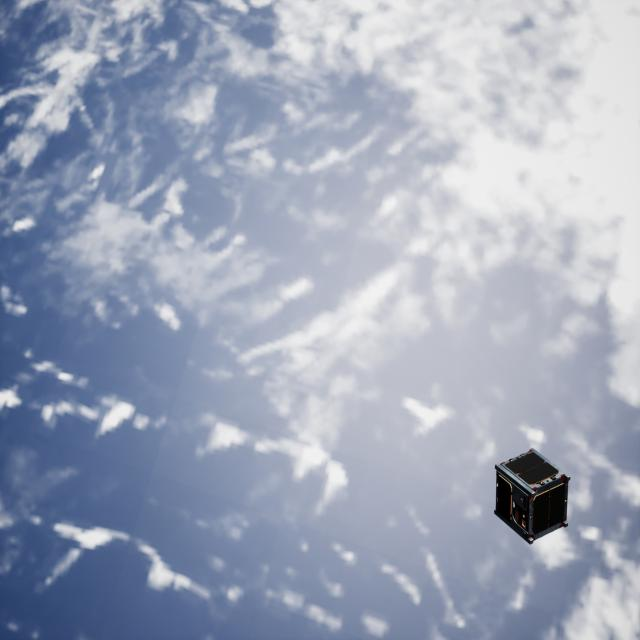medium_debris: (490, 445, 577, 539)
